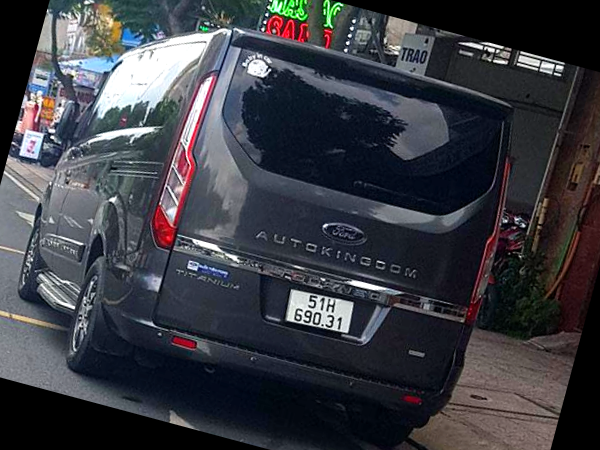lisence: (287, 287, 353, 335)
